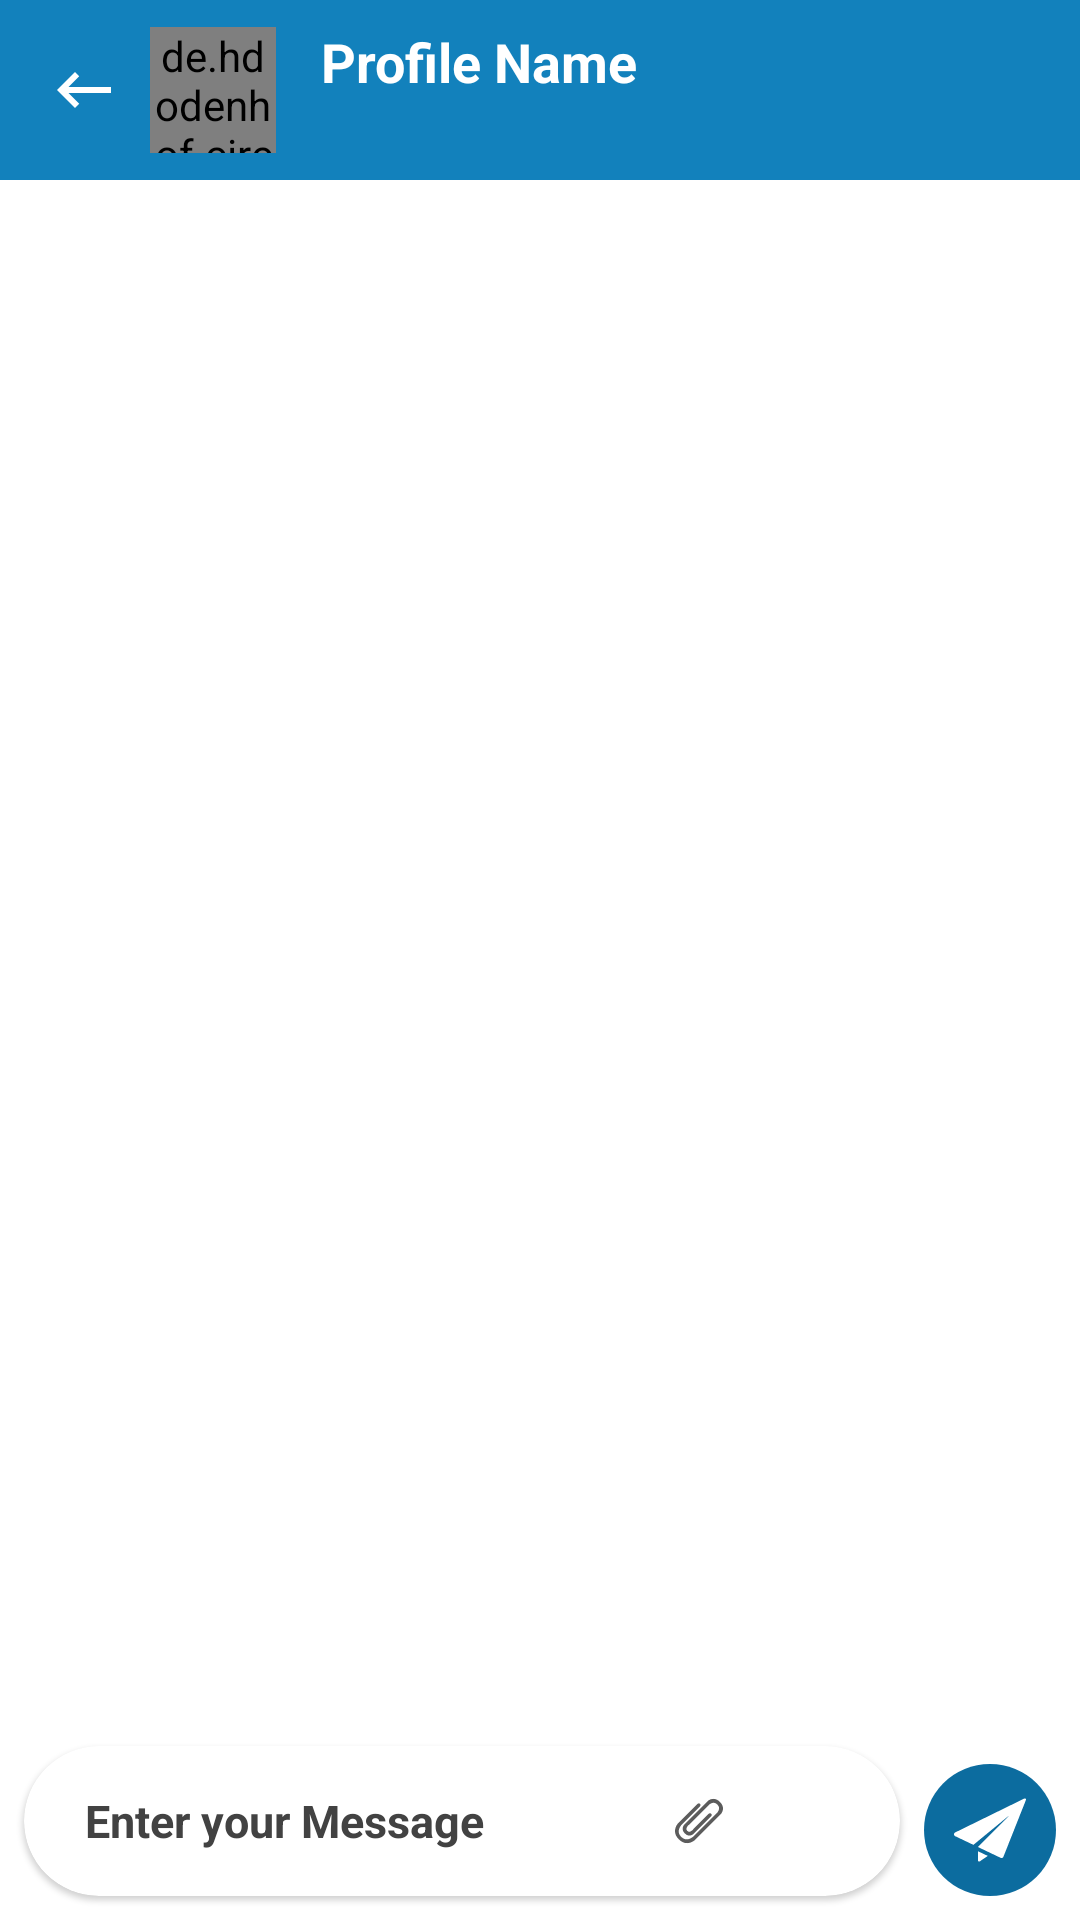

Icons on this 1080px x 1920px Android screen, each with the point to tap as (x=x, y=y):
attachment: (x=699, y=1821)
send: (x=990, y=1830)
